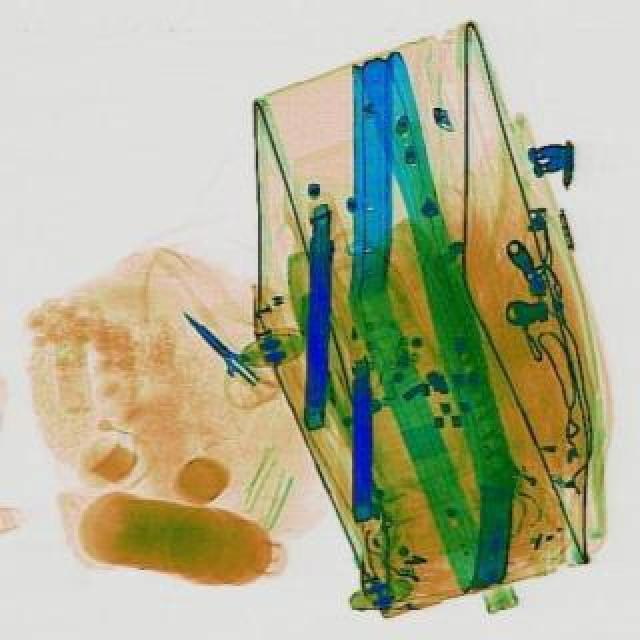knife: (168, 302, 264, 392)
